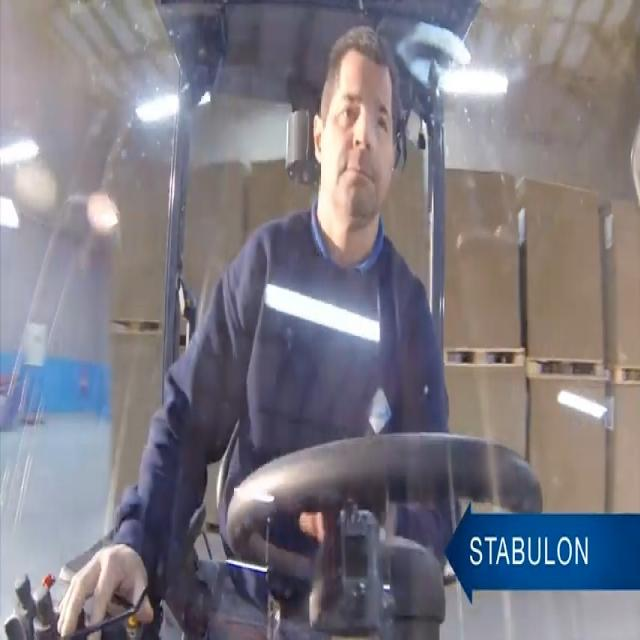Chariot elevateur: (94, 0, 546, 640)
Palette: (441, 332, 529, 379), (525, 352, 609, 392), (107, 312, 164, 347), (608, 362, 640, 390)
